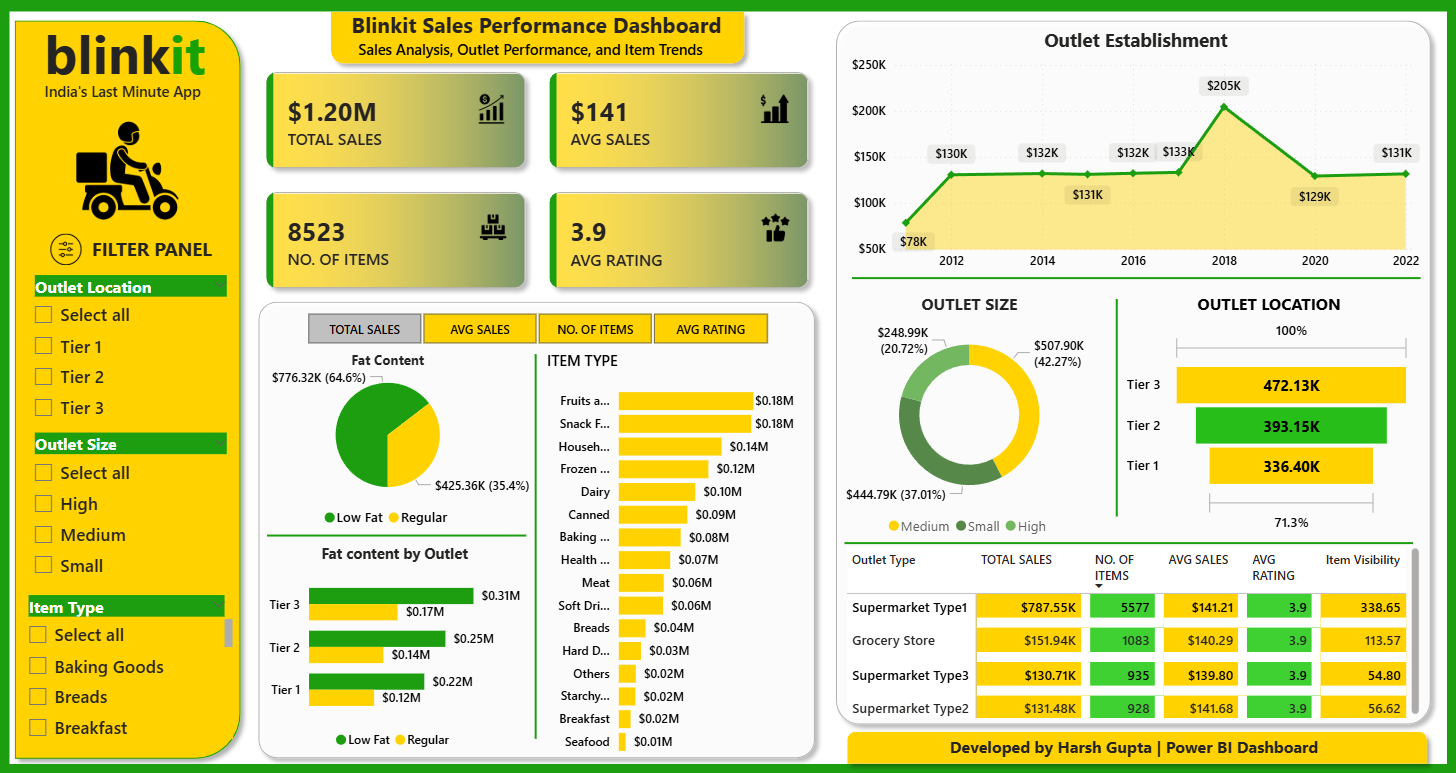

The page's visual inventory and layout, read from the dashboard file:
{"tool":"powerbi","page":{"name":"Page 1","canvas":[1462,777],"ordinal":0},"visuals":[{"type":"shape","box":[8.8,12.5,243.8,756.2],"z":0},{"type":"textbox","box":[43,12.8,173.3,82.6],"z":1000},{"type":"textbox","box":[43,77.9,181.4,33.7],"z":2000},{"type":"cardVisual","fields":{"Data":["BlinkIT Grocery Data.TOTAL SALES","BlinkIT Grocery Data.AVG SALES","BlinkIT Grocery Data.NO. OF ITEMS","BlinkIT Grocery Data.AVG RATING"]},"box":[252.3,55.8,577.9,251.2],"z":3000},{"type":"shape","box":[252.3,294.2,574.4,474.4],"z":4000},{"type":"slicer","fields":{"Values":["Matrics.Matrics"]},"box":[284.9,307,509.3,44.2],"z":5000},{"type":"pieChart","title":"Fat Content","fields":{"Y":["BlinkIT Grocery Data.TOTAL SALES"],"Category":["BlinkIT Grocery Data.Item Fat Content"]},"box":[236,351.2,309.3,186],"z":6000},{"type":"clusteredBarChart","title":"Fat content by Outlet","fields":{"Y":["BlinkIT Grocery Data.TOTAL SALES"],"Category":["BlinkIT Grocery Data.Outlet Location Type"],"Series":["BlinkIT Grocery Data.Item Fat Content"]},"box":[266.3,544.2,262.8,215.1],"z":7000},{"type":"shape","box":[269.8,523.3,259.3,25.6],"z":8000},{"type":"shape","box":[512.8,354.7,52.3,384.9],"z":9000},{"type":"barChart","title":"ITEM TYPE","fields":{"Y":["BlinkIT Grocery Data.TOTAL SALES"],"Category":["BlinkIT Grocery Data.Item Type"]},"box":[545.3,351.2,257,415.1],"z":10000},{"type":"shape","box":[830.2,12.8,612.8,722.1],"z":11000},{"type":"lineChart","title":"Outlet Establishment","fields":{"Y":["BlinkIT Grocery Data.TOTAL SALES"],"Category":["BlinkIT Grocery Data.Outlet Establishment Year"]},"box":[850,27.9,577.9,252.3],"z":12000},{"type":"shape","box":[854.7,259.3,568.6,40.7],"z":13000},{"type":"donutChart","title":"OUTLET SIZE","fields":{"Y":["BlinkIT Grocery Data.TOTAL SALES"],"Category":["BlinkIT Grocery Data.Outlet Size"]},"box":[830.2,294.2,284.9,252.3],"z":14000},{"type":"shape","box":[1100,300,39.5,217.4],"z":15000},{"type":"funnel","title":"OUTLET LOCATION","fields":{"Y":["Sum(BlinkIT Grocery Data.Sales)"],"Category":["BlinkIT Grocery Data.Outlet Location Type"]},"box":[1125.6,294.2,294.2,244.2],"z":16000},{"type":"shape","box":[847.7,523.3,568.6,40.7],"z":17000},{"type":"pivotTable","fields":{"Rows":["BlinkIT Grocery Data.Outlet Type"],"Values":["BlinkIT Grocery Data.TOTAL SALES","BlinkIT Grocery Data.NO. OF ITEMS","BlinkIT Grocery Data.AVG SALES","BlinkIT Grocery Data.AVG RATING","Sum(BlinkIT Grocery Data.Item Visibility)"]},"box":[845.3,544.2,582.6,180.2],"z":18000},{"type":"slicer","fields":{"Values":["BlinkIT Grocery Data.Outlet Location Type"]},"box":[24.4,270.9,217.4,159.3],"z":19000},{"type":"slicer","fields":{"Values":["BlinkIT Grocery Data.Outlet Size"]},"box":[24.4,429.1,217.4,162.8],"z":20000},{"type":"slicer","fields":{"Values":["BlinkIT Grocery Data.Item Type"]},"box":[18.6,591.9,222.1,157],"z":21000},{"type":"textbox","box":[89.5,232.6,134.9,37.2],"z":22000},{"type":"image","box":[44.2,230.2,50,40.7],"z":23000},{"type":"image","box":[69.8,111.6,120.9,120.9],"z":24000},{"type":"shape","box":[0,0,1462.5,12.5],"z":25000},{"type":"shape","box":[0,765,1462.5,12.5],"z":26000},{"type":"shape","box":[0,0,12.5,777.5],"z":27000},{"type":"shape","box":[1450,0,12.5,777.5],"z":28000},{"type":"shape","box":[325.6,3.5,431.4,69.8],"z":28002},{"type":"textbox","box":[333.7,5.8,411.6,45.3],"z":28003},{"type":"textbox","box":[355.8,34.9,367.4,32.6],"z":28004},{"type":"shape","box":[840.7,723.3,597.7,50],"z":28005},{"type":"textbox","box":[930.2,731.4,414,34.9],"z":28006}]}

Visuals, with their boxes in screenshot pixels (x1, y1, x2, y2), scaled from the page's 1462x777 canvas onto the 1456x773 screenshot:
shape: x1=9, y1=12, x2=252, y2=765
textbox: x1=43, y1=13, x2=215, y2=95
textbox: x1=43, y1=77, x2=223, y2=111
cardVisual - BlinkIT Grocery Data.TOTAL SALES x BlinkIT Grocery Data.AVG SALES: x1=251, y1=56, x2=827, y2=305
shape: x1=251, y1=293, x2=823, y2=765
slicer - Matrics.Matrics: x1=284, y1=305, x2=791, y2=349
"Fat Content" pieChart: x1=235, y1=349, x2=543, y2=534
"Fat content by Outlet" clusteredBarChart: x1=265, y1=541, x2=527, y2=755
shape: x1=269, y1=521, x2=527, y2=546
shape: x1=511, y1=353, x2=563, y2=736
"ITEM TYPE" barChart: x1=543, y1=349, x2=799, y2=762
shape: x1=827, y1=13, x2=1437, y2=731
"Outlet Establishment" lineChart: x1=847, y1=28, x2=1422, y2=279
shape: x1=851, y1=258, x2=1417, y2=298
"OUTLET SIZE" donutChart: x1=827, y1=293, x2=1111, y2=544
shape: x1=1095, y1=298, x2=1135, y2=515
"OUTLET LOCATION" funnel: x1=1121, y1=293, x2=1414, y2=536
shape: x1=844, y1=521, x2=1410, y2=561
pivotTable - BlinkIT Grocery Data.Outlet Type x BlinkIT Grocery Data.TOTAL SALES: x1=842, y1=541, x2=1422, y2=721
slicer - BlinkIT Grocery Data.Outlet Location Type: x1=24, y1=270, x2=241, y2=428
slicer - BlinkIT Grocery Data.Outlet Size: x1=24, y1=427, x2=241, y2=589
slicer - BlinkIT Grocery Data.Item Type: x1=19, y1=589, x2=240, y2=745
textbox: x1=89, y1=231, x2=223, y2=268
image: x1=44, y1=229, x2=94, y2=270
image: x1=70, y1=111, x2=190, y2=231
shape: x1=0, y1=0, x2=1455, y2=12
shape: x1=0, y1=761, x2=1455, y2=772
shape: x1=0, y1=0, x2=12, y2=772
shape: x1=1444, y1=0, x2=1455, y2=772
shape: x1=324, y1=3, x2=754, y2=73
textbox: x1=332, y1=6, x2=742, y2=51
textbox: x1=354, y1=35, x2=720, y2=67
shape: x1=837, y1=720, x2=1432, y2=769
textbox: x1=926, y1=728, x2=1339, y2=762
